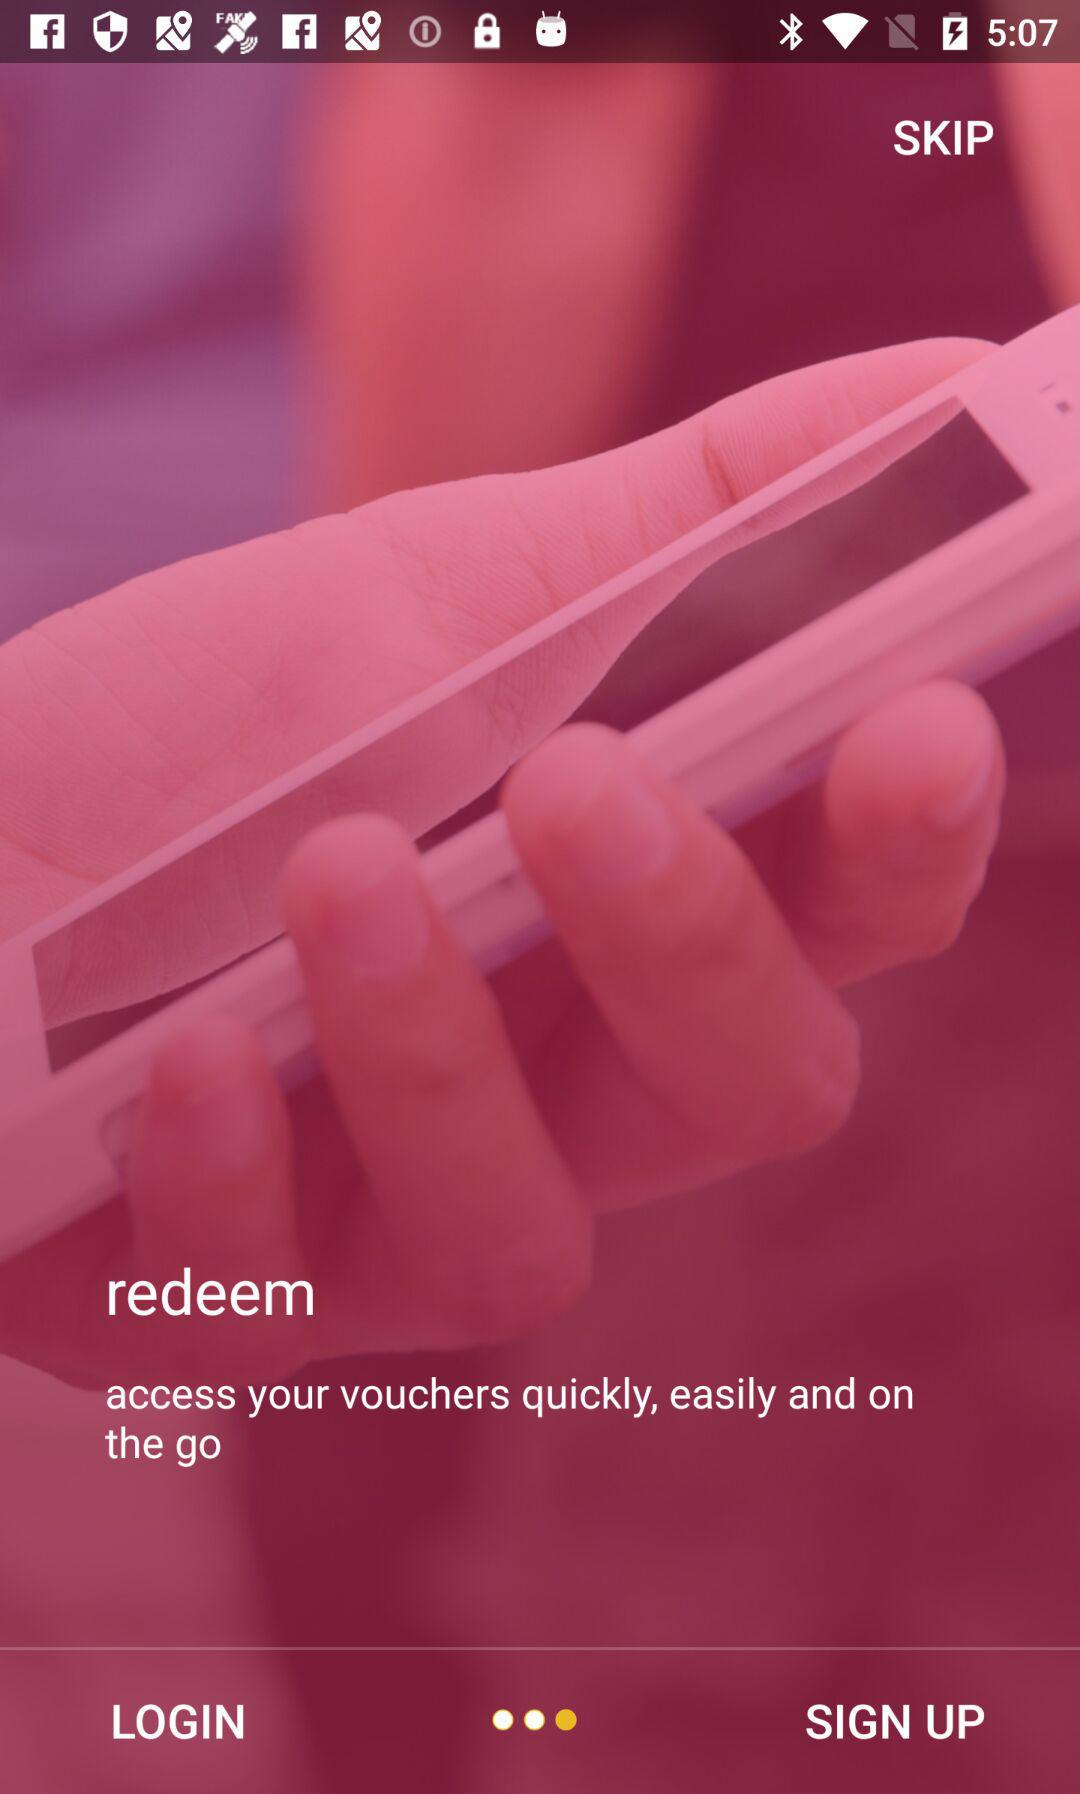BackgroundImage: (1, 64, 1079, 1794)
PageIndicator: (491, 1707, 579, 1732)
Text: (105, 1375, 913, 1469), (108, 1266, 315, 1317), (805, 1703, 985, 1741), (113, 1703, 246, 1740), (893, 120, 994, 158)
UpperTaskBar: (1, 1, 1080, 64)
